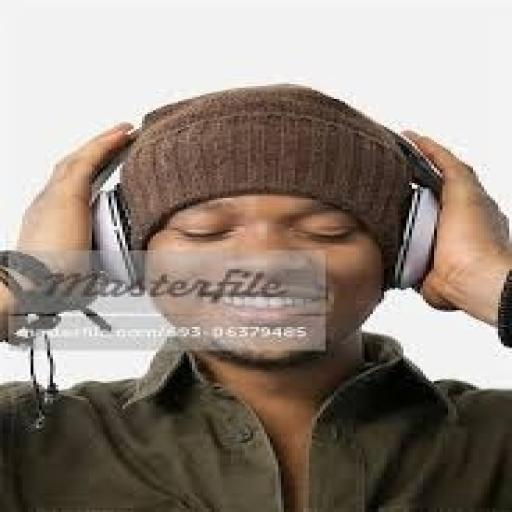listening_to_music: (0, 80, 509, 510)
